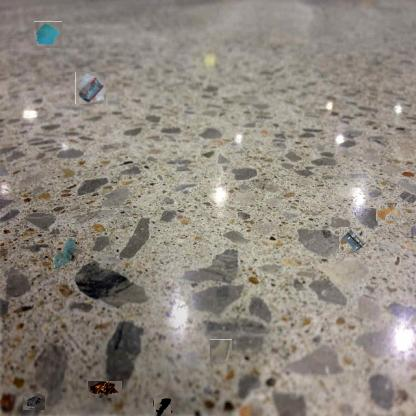dirty: (75, 72, 106, 104), (339, 228, 366, 255), (35, 21, 62, 47), (88, 382, 122, 400), (210, 340, 233, 362), (24, 391, 44, 411), (152, 397, 171, 416)
liquid: (52, 236, 78, 268), (377, 201, 399, 223)
